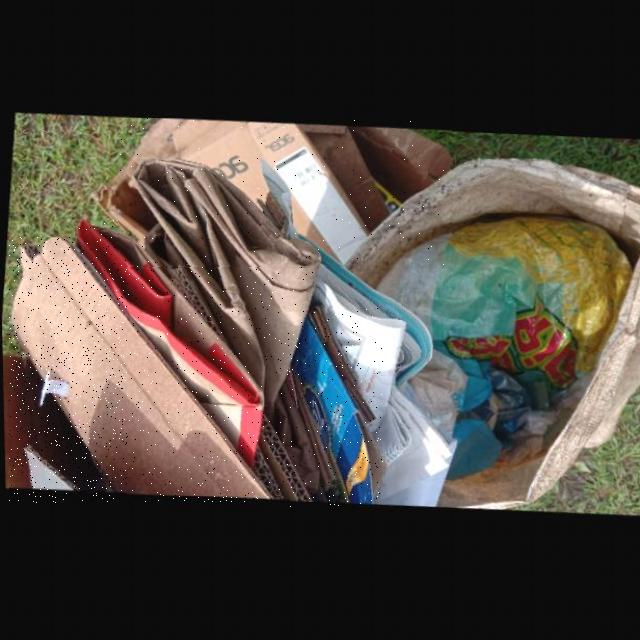paper: (10, 237, 311, 503), (127, 161, 318, 496), (118, 119, 452, 267), (76, 220, 262, 471), (291, 308, 384, 507)
